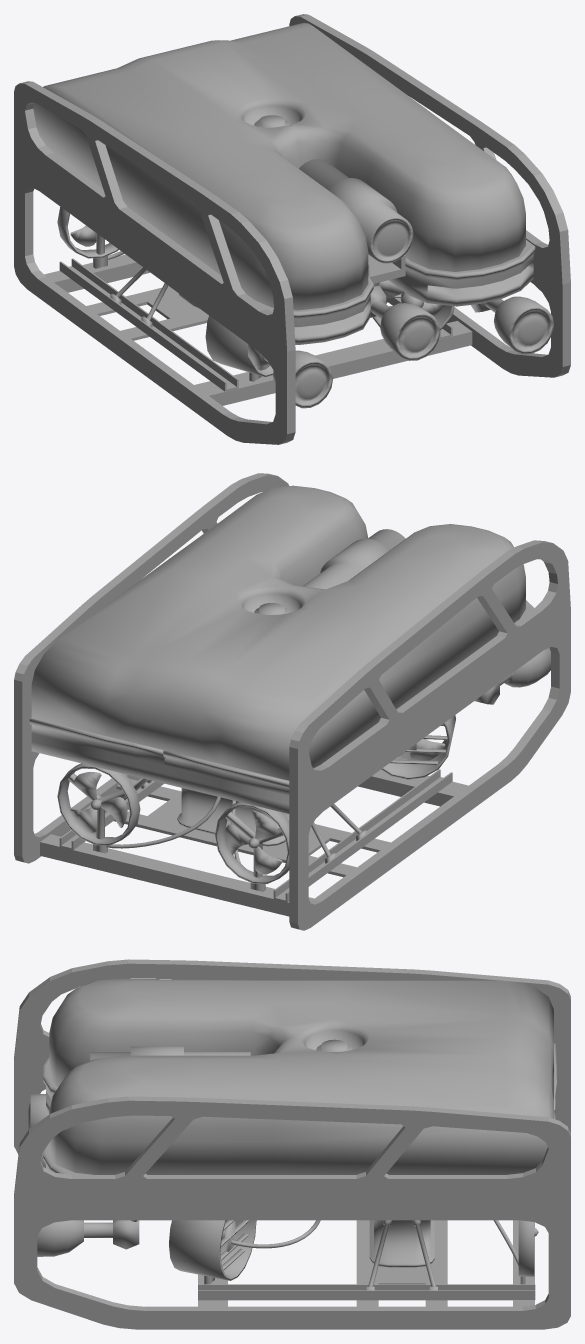
Rendered from caracara_visual.dae.
The picture shows the model from 3 angles, top to bottom: view 1: azimuth 30°, elevation 25°; view 2: azimuth 150°, elevation 25°; view 3: azimuth 270°, elevation 25°; orthographic projection.
Visible parts, largest first — view 1: Caracara; view 2: Caracara; view 3: Caracara.
Boxes of the visible parts, x1,y1,x2,y2 form: Caracara: [14, 14, 570, 444]; Caracara: [14, 473, 570, 930]; Caracara: [14, 959, 570, 1329].
Size of the model in its own units: 1.2 by 2 by 0.9064.
Materials: 1 (1 with a texture image).
